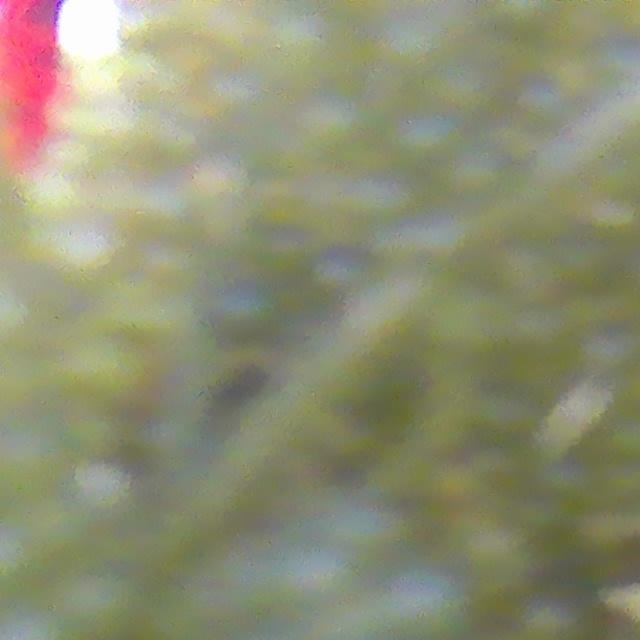SeaGrape: (386, 561, 472, 640), (60, 564, 145, 640), (72, 458, 134, 518)
